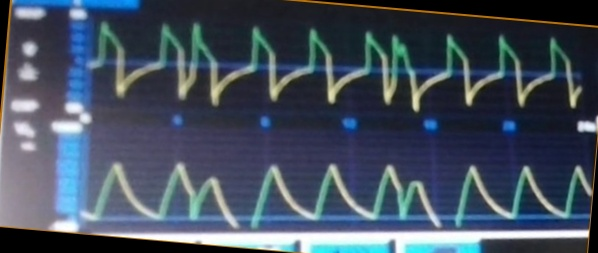Double_Triggering Flow: (95, 20, 576, 111)
Double_Triggering Volume: (113, 151, 580, 229)
